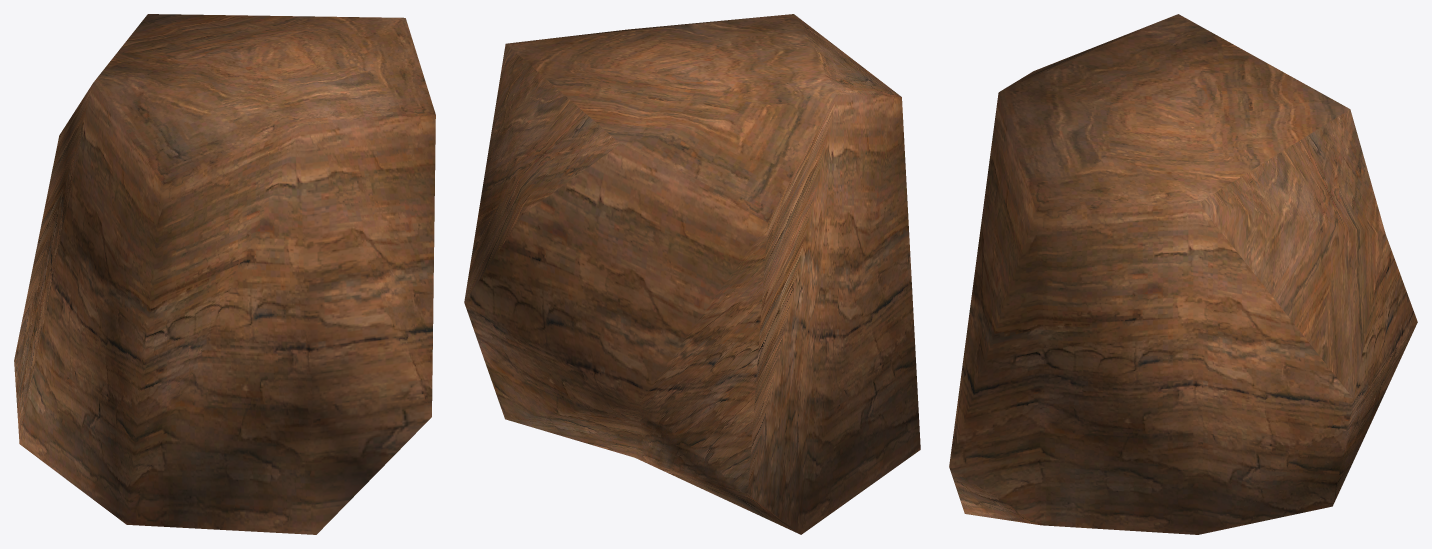
The model's file is rock_tatt_jundland_boulder_l3.fbx.
3 renders of one model, left to right at view 1: azimuth 30°, elevation 25°; view 2: azimuth 150°, elevation 25°; view 3: azimuth 270°, elevation 25°, orthographic. The views are drawn at different scales.
Visible parts, largest first — view 1: mesh_node; view 2: mesh_node; view 3: mesh_node.
Part boxes in pixels (<box>): mesh_node: <box>14,14,435,534</box>; mesh_node: <box>464,14,920,534</box>; mesh_node: <box>949,14,1417,534</box>.
Size of the model in its own units: 2.05 by 2.28 by 2.22.
